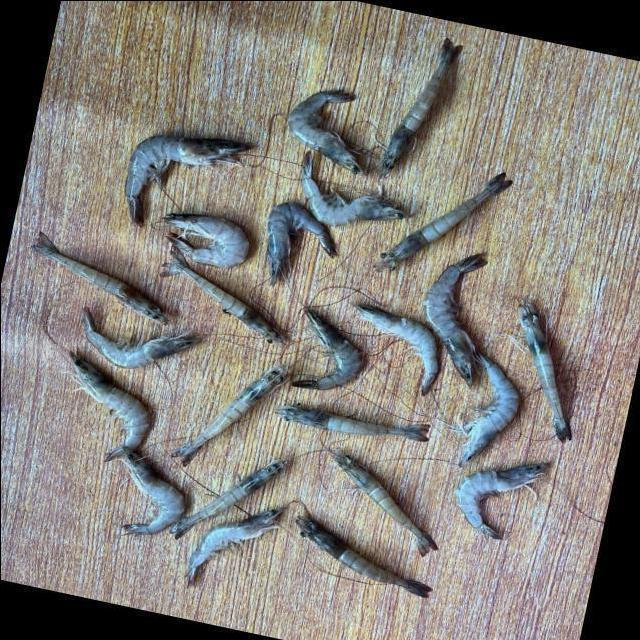shrimp: (375, 171, 512, 271), (30, 231, 167, 325), (160, 246, 285, 347), (376, 37, 462, 176), (171, 365, 287, 466), (124, 134, 250, 226), (328, 451, 438, 556), (295, 517, 432, 598), (168, 459, 287, 539), (423, 253, 487, 386), (301, 150, 411, 225), (449, 353, 520, 467), (68, 352, 148, 450), (353, 304, 438, 395), (186, 508, 284, 586), (519, 300, 572, 442), (456, 463, 550, 540), (104, 445, 184, 535), (81, 307, 199, 368), (287, 89, 365, 174), (267, 201, 337, 285), (291, 308, 361, 390), (275, 405, 430, 441), (162, 212, 249, 267)
